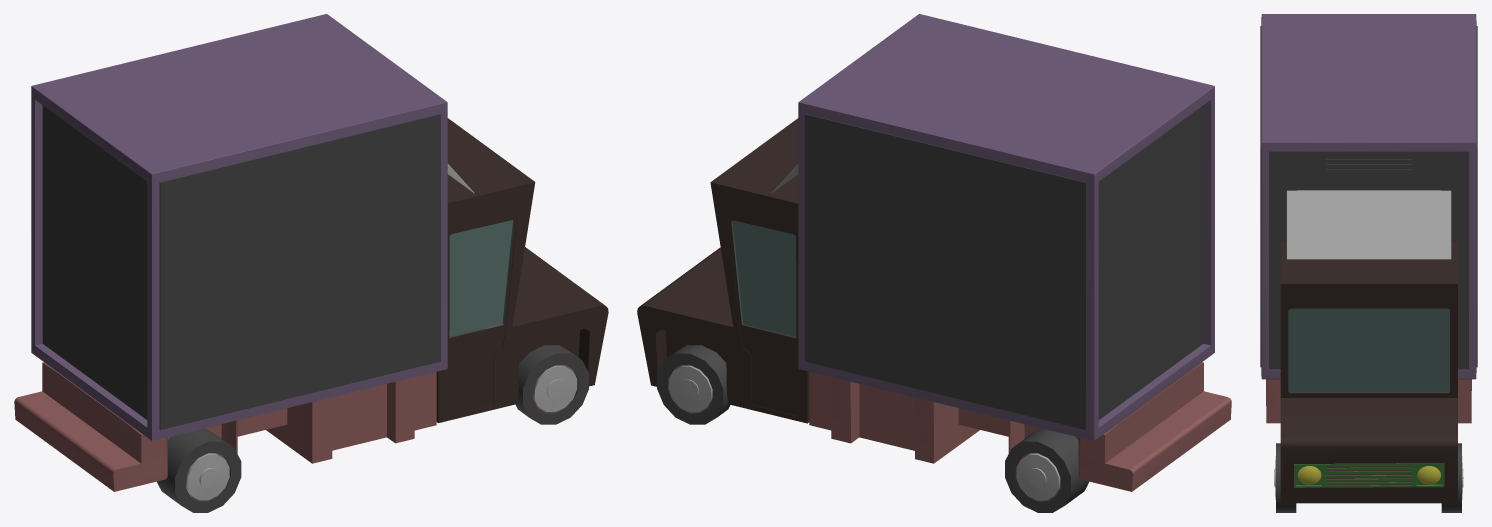
File: Truck.fbx
The picture shows the model from 3 angles, left to right: view 1: azimuth 30°, elevation 25°; view 2: azimuth 150°, elevation 25°; view 3: azimuth 270°, elevation 25°; orthographic projection. The views are drawn at different scales.
Parts seen in each view (by area): view 1: Truck_Body, Back_Wheels, Front_Wheels; view 2: Truck_Body, Back_Wheels, Front_Wheels; view 3: Truck_Body, Front_Wheels.
Part boxes in pixels (box(x1,y1,x2,y2)): Truck_Body: box(14, 14, 608, 491); Back_Wheels: box(157, 428, 241, 512); Front_Wheels: box(515, 345, 588, 424); Truck_Body: box(637, 14, 1231, 491); Back_Wheels: box(1005, 428, 1088, 512); Front_Wheels: box(657, 345, 730, 424); Truck_Body: box(1260, 14, 1477, 503); Front_Wheels: box(1274, 443, 1463, 512).
Bounding box in the file's own units: 16.69 × 11.51 × 7.15.
